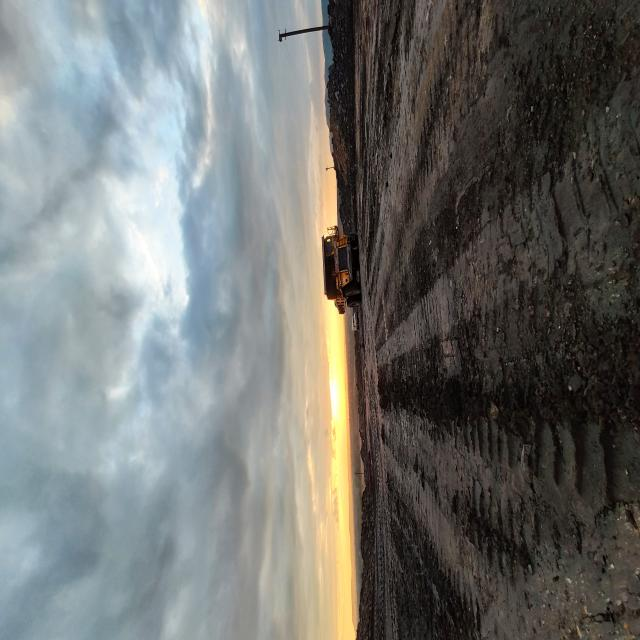dump_truck: (184, 571, 232, 640)
light_vehicle: (174, 624, 185, 638)
